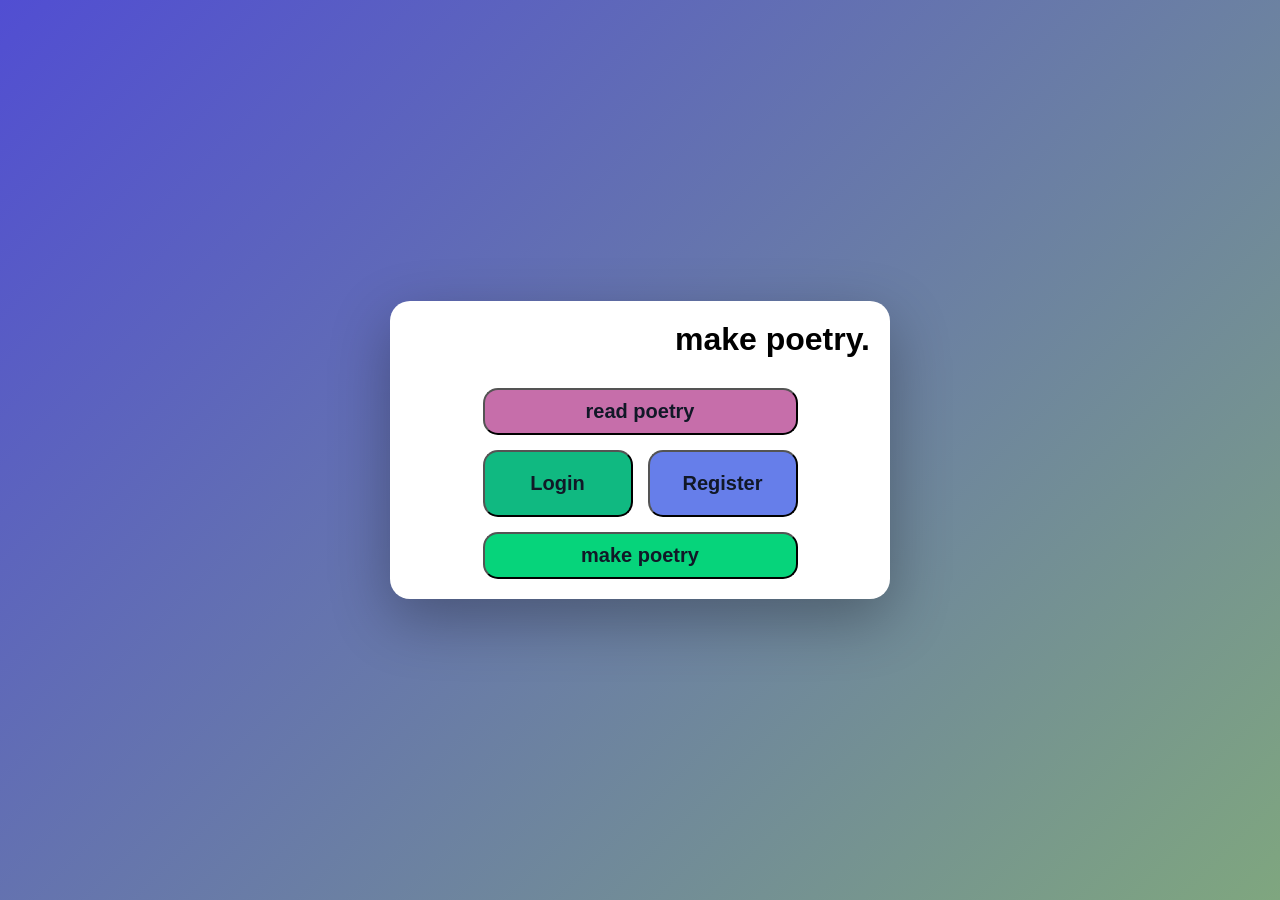
Test: Poetry-App › navigates from home through the dashboard to the haiku editor
This screenshot has width=1280, height=900.
Click the button "make poetry": (640, 556) [482,532,798,579]
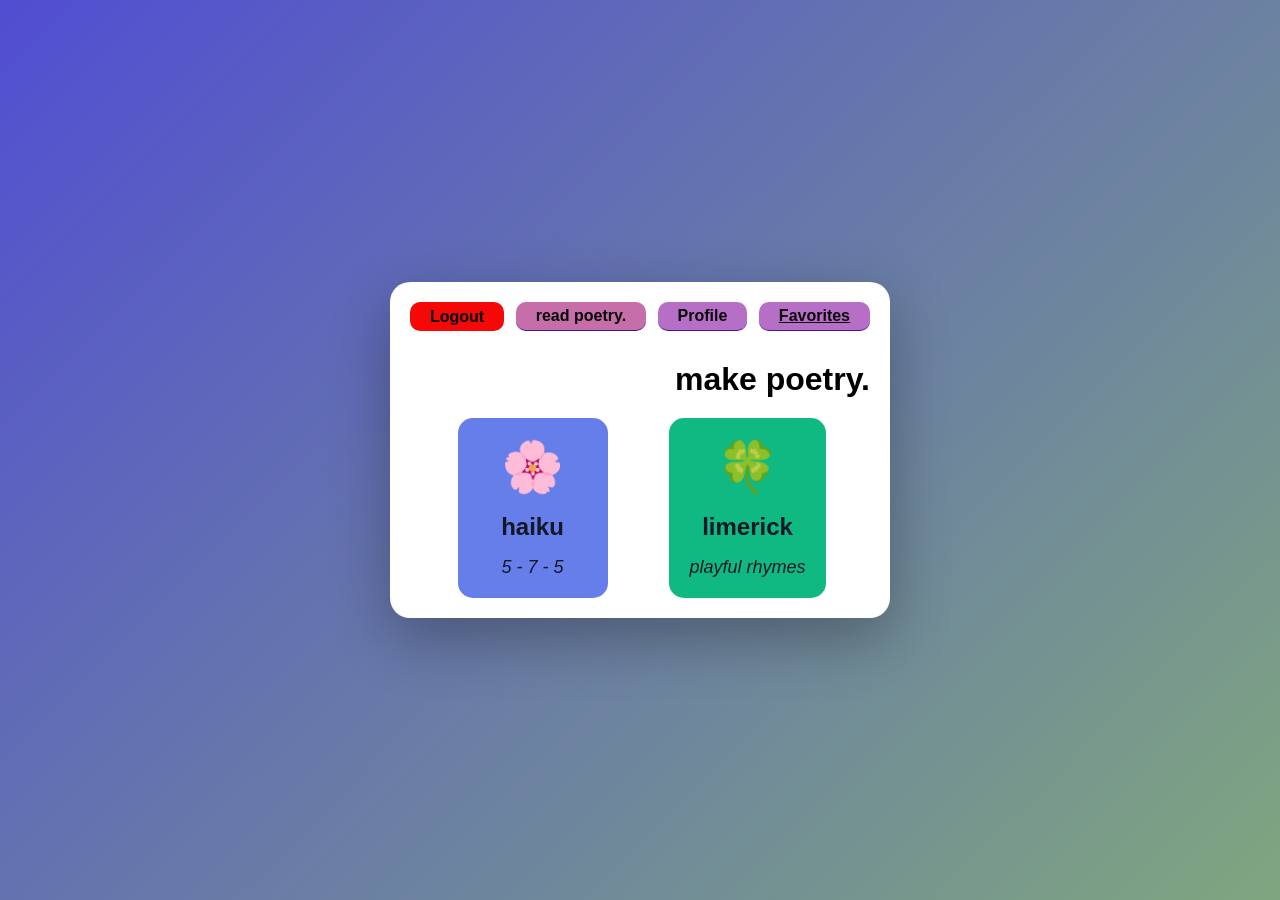
Click the link with aria-label "open haiku editor": (532, 508) [458,418,608,598]
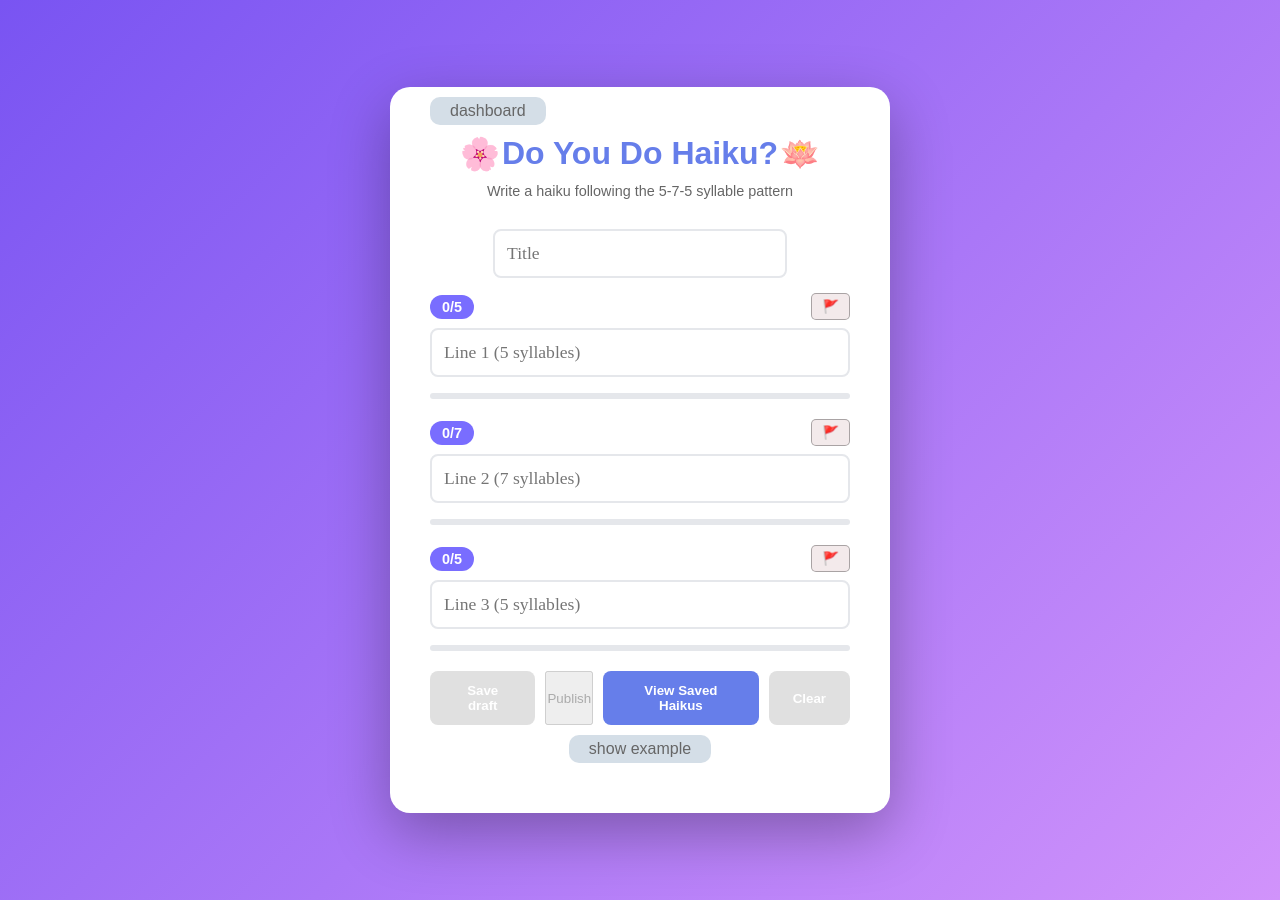
Now the heading "🌸 Do You Do Haiku? 🪷" is shown, box [460,135,820,173]
